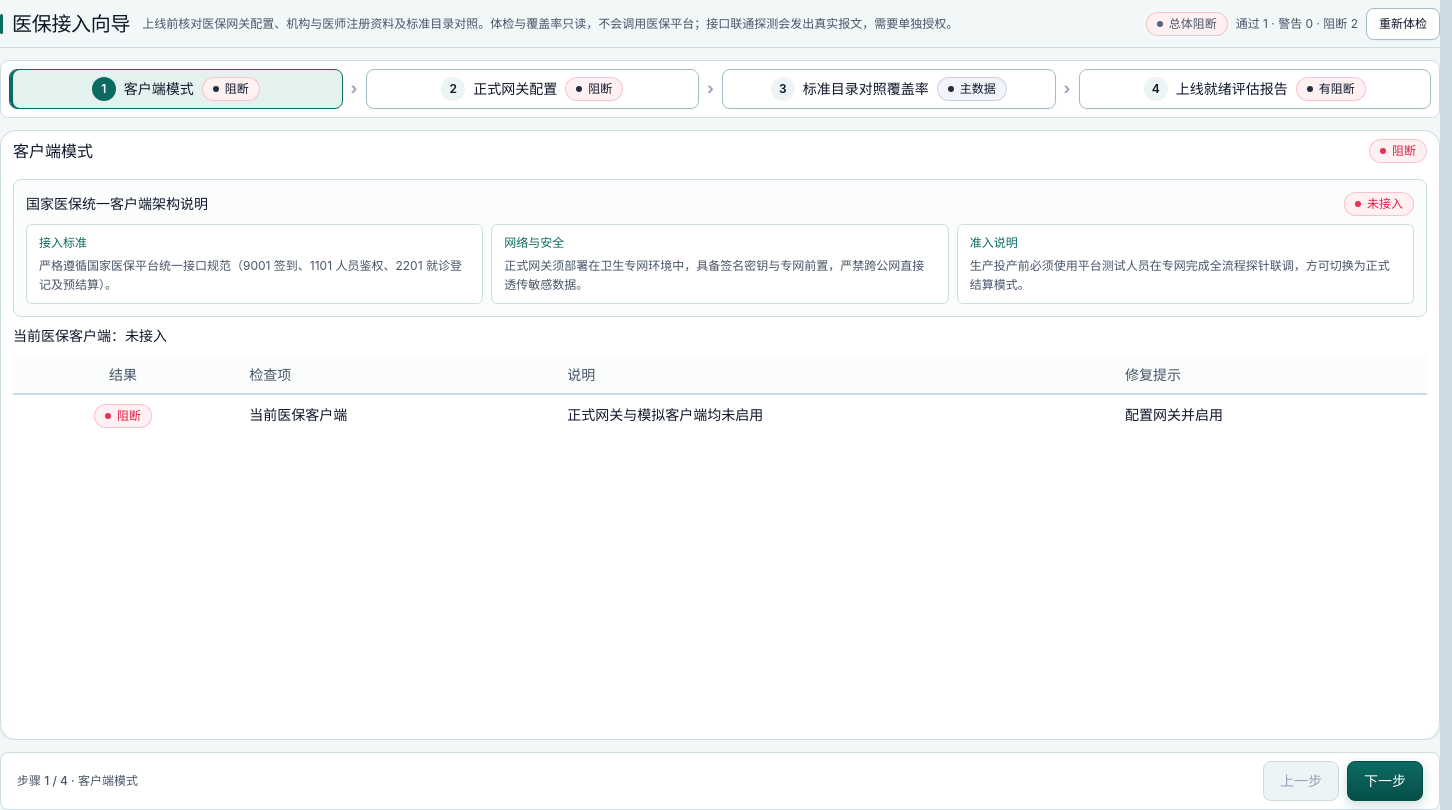
InsuranceOnboardingWizard › shows the overall verdict, per-section status and fix hints
This screenshot has width=1452, height=810.
Expected: the text "总体阻断" is shown, [1146,12,1228,36]
Expected: the text "通过 1 · 警告 0 · 阻断 2" is shown, [1236,14,1358,33]
Click the button "2 正式网关配置 阻断".
click(532, 89)  # box [366,69,699,109]
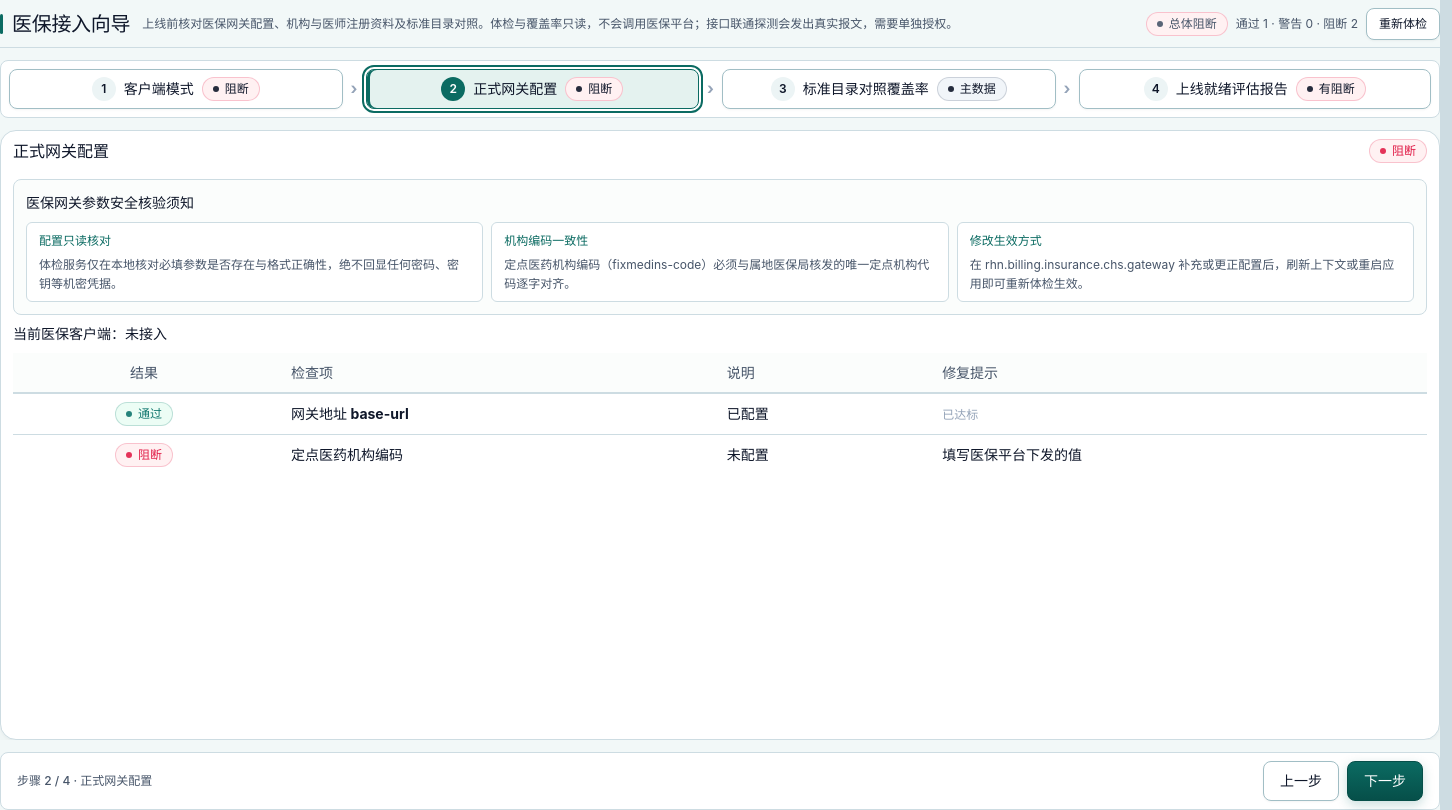
Result: the text "填写医保平台下发的值" is shown at [926,434,1427,475]
Result: the text "网关地址 base-url" is shown at [291,405,409,422]
